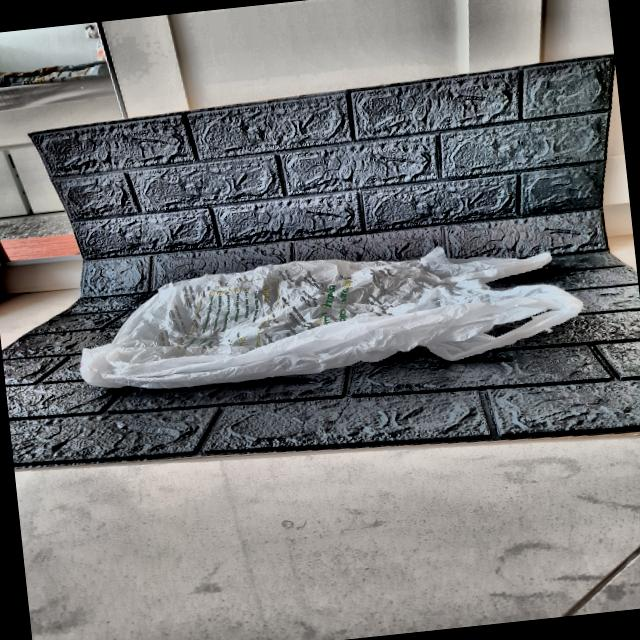plastic bag: (63, 182, 582, 407)
